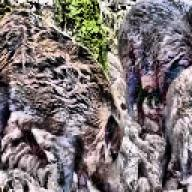boar: (0, 7, 124, 192), (115, 0, 192, 127), (160, 64, 192, 192)
